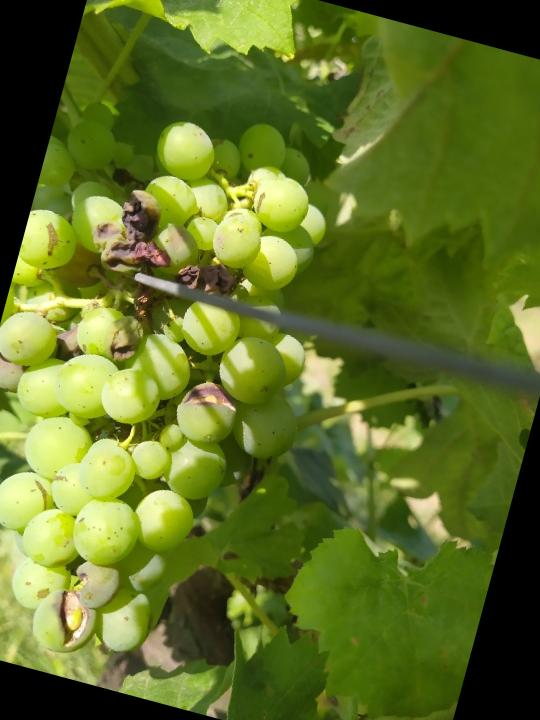grape: (0, 69, 377, 702)
